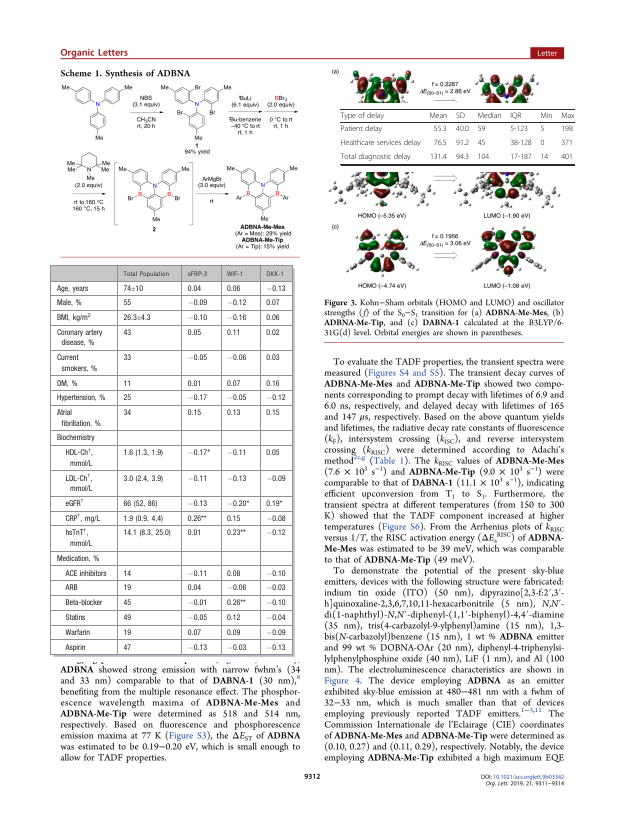bordered: (50, 263, 292, 654)
borderless: (339, 108, 574, 164)
cell: (55, 329, 103, 348), (55, 409, 101, 428), (55, 354, 98, 374), (340, 139, 422, 149), (340, 153, 412, 163), (64, 447, 93, 469), (64, 473, 93, 494), (64, 528, 93, 549), (55, 394, 106, 403), (122, 529, 171, 538), (340, 125, 383, 135), (340, 112, 385, 121), (55, 554, 100, 563), (55, 312, 91, 323), (64, 569, 107, 578), (122, 449, 164, 458), (122, 474, 164, 483), (122, 514, 164, 523), (122, 271, 169, 279), (55, 434, 95, 443), (122, 499, 158, 509), (64, 513, 100, 523), (64, 599, 103, 608), (55, 284, 89, 293), (122, 314, 151, 323), (225, 499, 250, 509), (55, 299, 82, 308), (64, 628, 91, 637), (509, 139, 533, 149), (509, 153, 533, 163), (477, 112, 502, 121), (64, 498, 84, 509), (186, 499, 208, 509), (64, 613, 86, 623), (186, 613, 208, 623), (186, 449, 210, 458), (265, 613, 286, 623), (55, 379, 78, 388), (509, 125, 529, 135), (122, 284, 144, 293), (186, 299, 208, 308), (225, 299, 247, 308), (186, 314, 208, 323), (225, 314, 247, 323), (186, 354, 208, 363), (225, 354, 247, 363), (186, 394, 208, 403), (225, 394, 247, 403), (225, 449, 247, 458), (186, 474, 208, 483), (225, 474, 247, 483), (186, 569, 208, 578), (225, 584, 247, 593), (186, 599, 208, 608), (64, 643, 86, 652), (186, 643, 208, 652), (225, 643, 247, 652), (429, 153, 448, 163), (265, 284, 286, 293), (265, 394, 286, 403), (265, 474, 286, 483), (186, 514, 207, 523), (265, 514, 286, 523), (225, 529, 246, 538), (265, 529, 286, 538), (265, 569, 286, 578), (265, 584, 286, 593), (225, 599, 246, 608), (265, 599, 286, 608), (265, 628, 286, 637), (265, 643, 286, 652), (428, 112, 448, 121), (265, 499, 283, 509), (186, 271, 208, 279), (225, 613, 241, 623), (265, 271, 284, 279), (433, 125, 448, 135), (455, 125, 470, 135), (433, 139, 448, 149), (455, 139, 470, 149), (455, 153, 470, 163), (225, 271, 243, 279), (186, 284, 202, 293), (225, 284, 241, 293), (186, 329, 202, 338), (225, 329, 241, 338), (186, 379, 202, 388), (225, 379, 241, 388), (186, 409, 202, 418), (225, 409, 241, 418), (225, 514, 241, 523), (186, 529, 202, 538), (225, 569, 241, 578), (186, 584, 202, 593), (186, 628, 202, 637), (225, 628, 241, 637), (560, 125, 574, 135), (560, 139, 574, 149), (560, 153, 574, 163), (560, 112, 575, 121), (265, 299, 280, 308), (265, 314, 280, 323), (265, 329, 280, 338), (265, 354, 280, 363), (265, 379, 280, 388), (265, 409, 280, 418), (265, 449, 280, 458), (477, 153, 490, 163), (539, 112, 553, 121), (64, 584, 78, 593), (509, 112, 522, 121), (539, 153, 549, 163), (122, 613, 132, 623), (455, 112, 466, 121), (477, 125, 486, 135), (477, 139, 486, 149), (122, 299, 132, 308), (122, 329, 132, 338), (122, 354, 132, 363), (122, 379, 132, 388), (122, 394, 132, 403), (122, 409, 132, 418), (122, 569, 132, 578), (122, 584, 132, 593), (122, 599, 132, 608), (122, 628, 132, 637), (122, 643, 132, 652), (539, 125, 545, 135), (539, 139, 545, 149)
